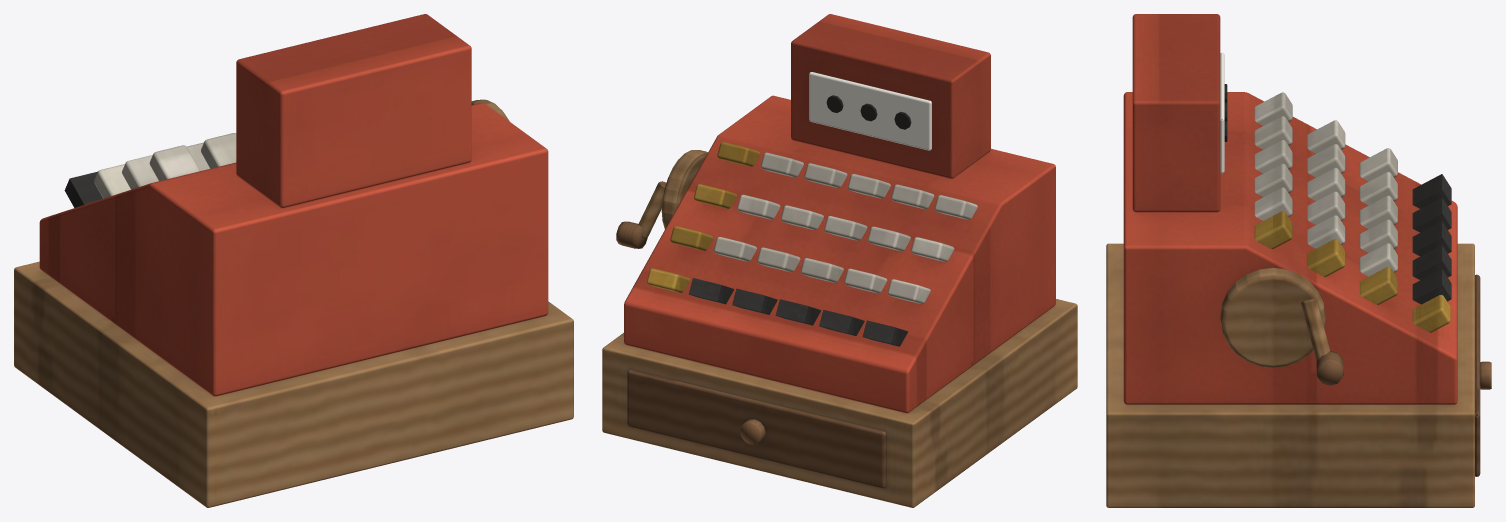
File: register.glb
3 renders of one model, left to right at view 1: azimuth 30°, elevation 25°; view 2: azimuth 150°, elevation 25°; view 3: azimuth 270°, elevation 25°, orthographic. The views are drawn at different scales.
Visible parts, largest first — view 1: register_felt_red, register_wood, register_felt_ivory, register_felt_charcoal; view 2: register_felt_red, register_wood, register_wood_dark, register_felt_ivory, register_paper_white, register_felt_charcoal, register_felt_mustard, register_button; view 3: register_felt_red, register_wood, register_felt_ivory, register_felt_charcoal, register_felt_mustard, register_wood_dark, register_button, register_paper_white.
Boxes of the visible parts, <box> form: register_felt_red: <box>39,14,548,396</box>; register_wood: <box>14,99,573,507</box>; register_felt_ivory: <box>94,133,236,198</box>; register_felt_charcoal: <box>64,171,102,207</box>; register_felt_red: <box>624,14,1055,413</box>; register_wood: <box>602,150,1077,507</box>; register_wood_dark: <box>627,369,886,488</box>; register_felt_ivory: <box>714,152,977,303</box>; register_paper_white: <box>809,72,931,150</box>; register_felt_charcoal: <box>688,95,911,346</box>; register_felt_mustard: <box>647,142,760,292</box>; register_button: <box>616,221,765,444</box>; register_felt_red: <box>1123,14,1457,404</box>; register_wood: <box>1106,243,1474,507</box>; register_felt_ivory: <box>1254,92,1397,276</box>; register_felt_charcoal: <box>1224,84,1451,304</box>; register_felt_mustard: <box>1254,211,1450,332</box>; register_wood_dark: <box>1475,274,1480,476</box>; register_button: <box>1316,351,1491,389</box>; register_paper_white: <box>1220,52,1224,173</box>.
Size of the model in its own units: 1.05 by 0.92 by 0.878.
Materials: 8 (7 with a texture image).
